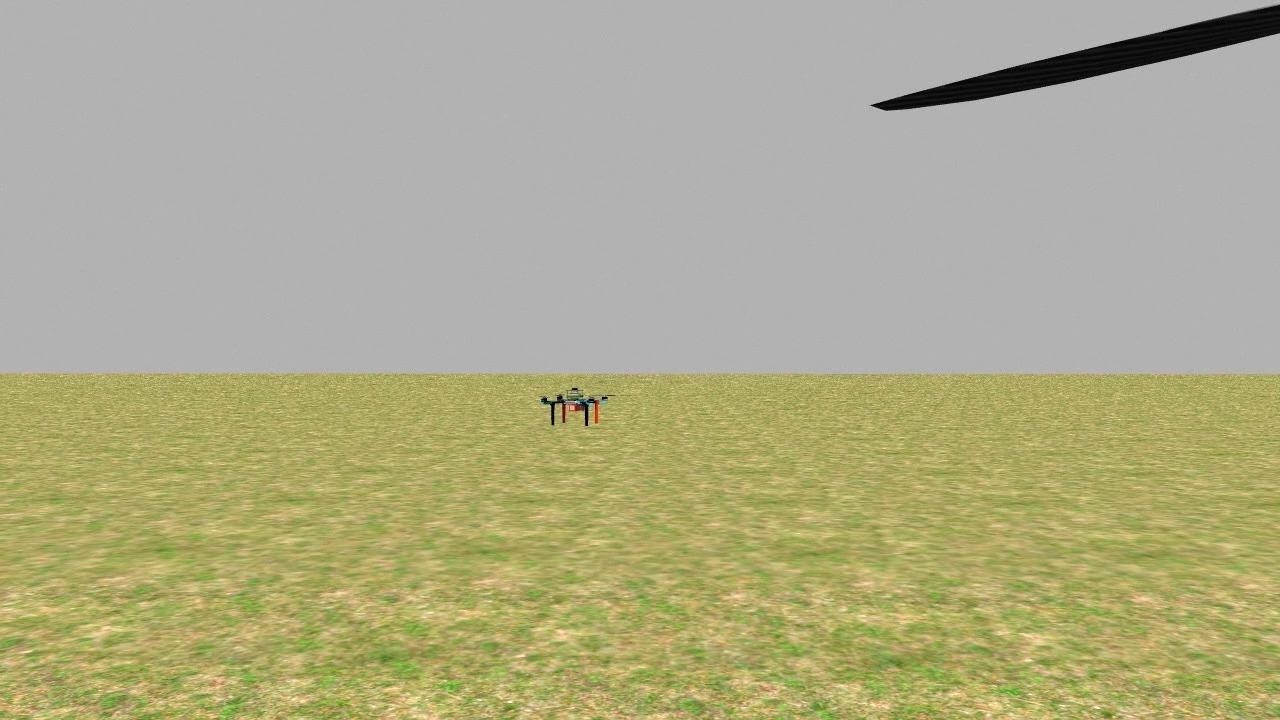UAV: (533, 362, 619, 431)
